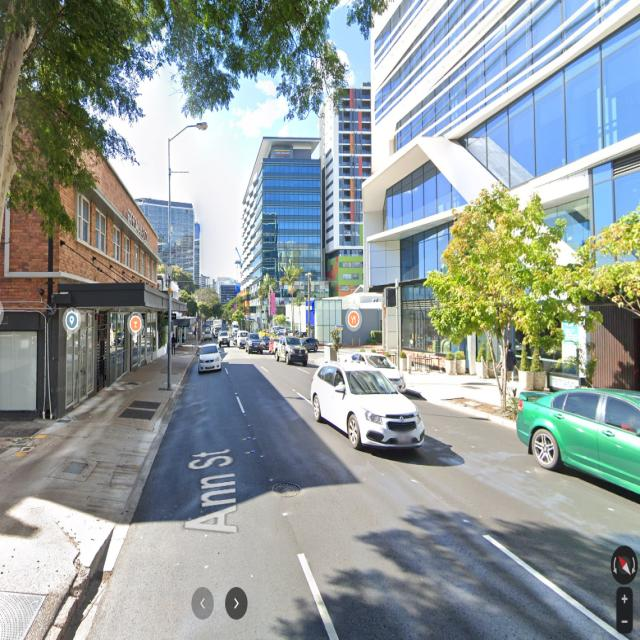light pole: (166, 112, 208, 390)
steel-pole: (166, 138, 171, 391), (394, 278, 400, 371), (268, 285, 270, 338)
streetlight: (168, 122, 208, 142)
timber-pole: (308, 272, 310, 338)
traffic pole: (386, 278, 400, 371), (267, 284, 270, 338)
traffic-light: (386, 286, 398, 308), (267, 316, 270, 324)
